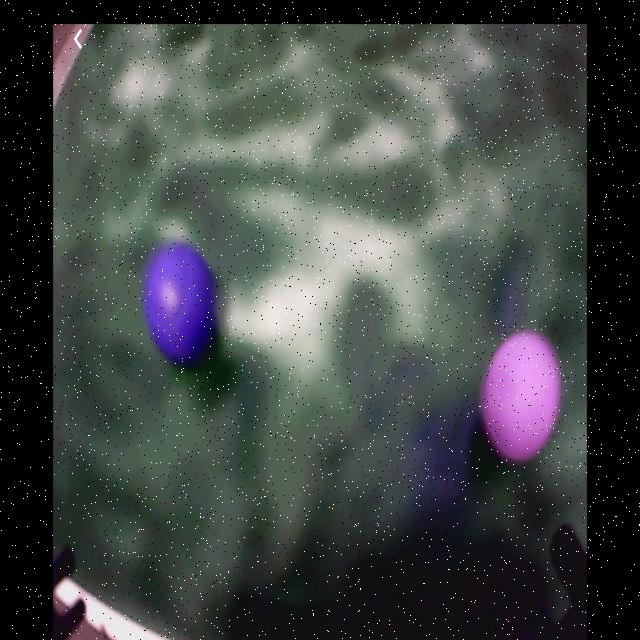ball: (481, 330, 564, 465), (143, 245, 217, 369)
